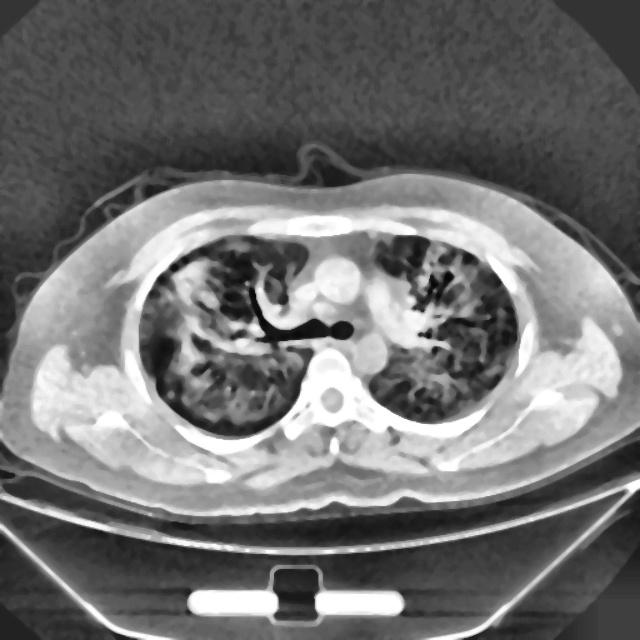covid: (2, 154, 637, 524)
